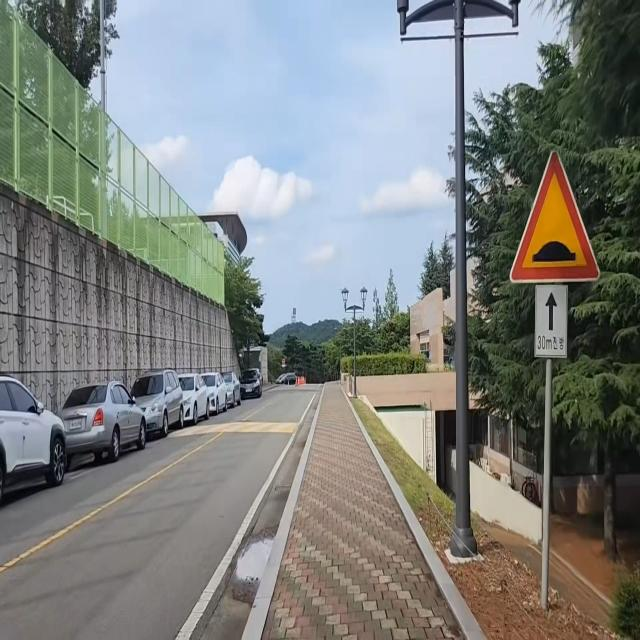road: (0, 390, 321, 640)
sidewalk: (242, 381, 492, 640), (445, 12, 484, 556)
